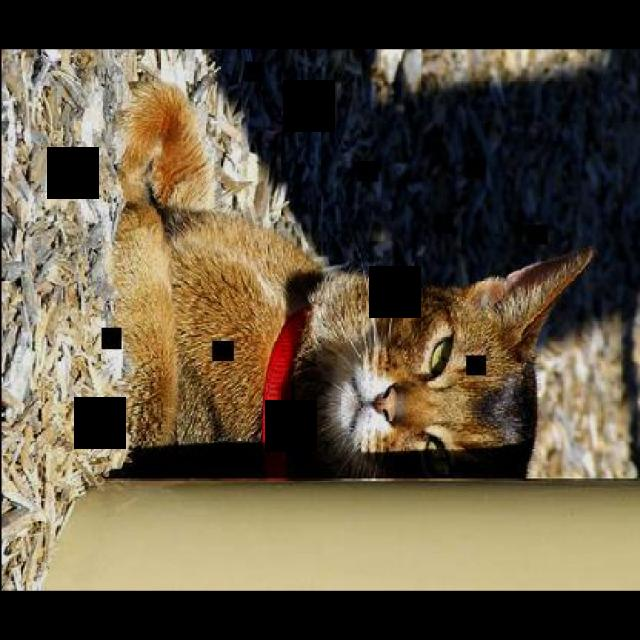unauthorized: (108, 77, 594, 478)
